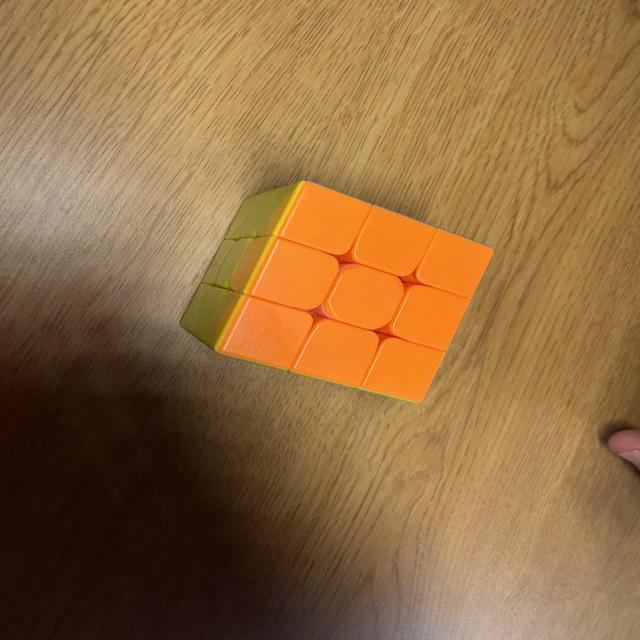Rubiks Cube: (179, 181, 493, 405)
